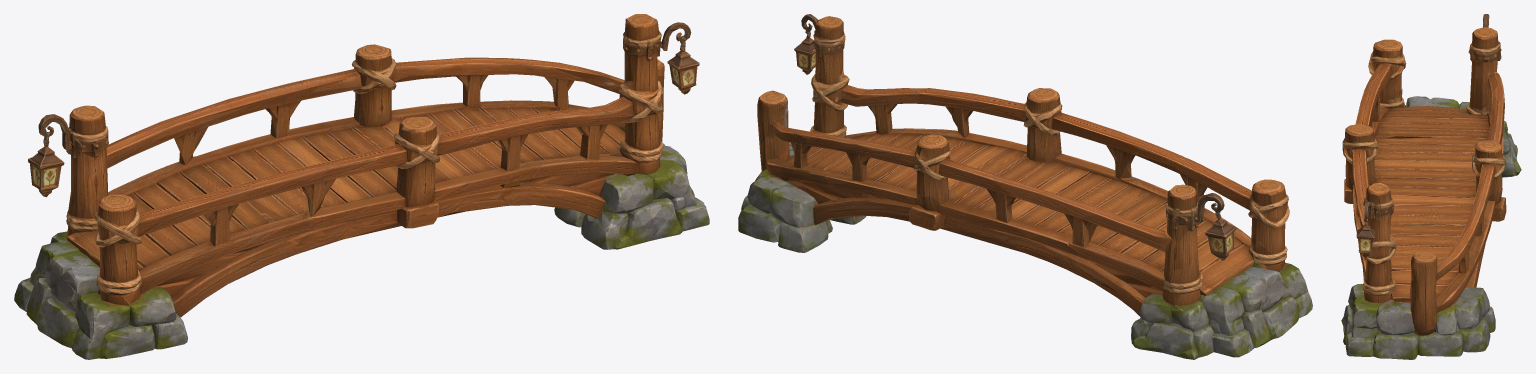
Rendered from ARC-002.glb.
3 renders of one model, left to right at view 1: azimuth 30°, elevation 25°; view 2: azimuth 150°, elevation 25°; view 3: azimuth 270°, elevation 25°, orthographic. The views are drawn at different scales.
Visible parts, largest first — view 1: ARC-002; view 2: ARC-002; view 3: ARC-002.
Part boxes in pixels (bbox=[...]): ARC-002: bbox=[14, 14, 709, 359]; ARC-002: bbox=[738, 14, 1312, 359]; ARC-002: bbox=[1341, 14, 1521, 359].
Bounding box in the file's own units: 8.69 × 2.7 × 2.91.
1 material, 1 textured.
